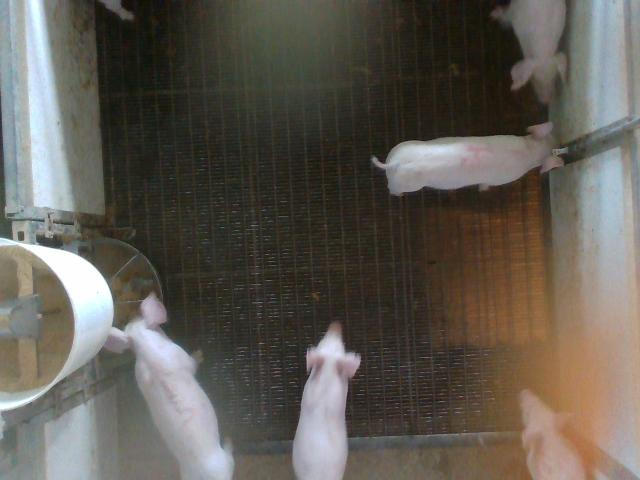pig-3: (104, 292, 231, 478)
pig-4: (371, 124, 562, 194)
